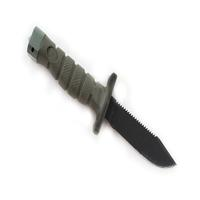knife: (22, 23, 180, 172)
